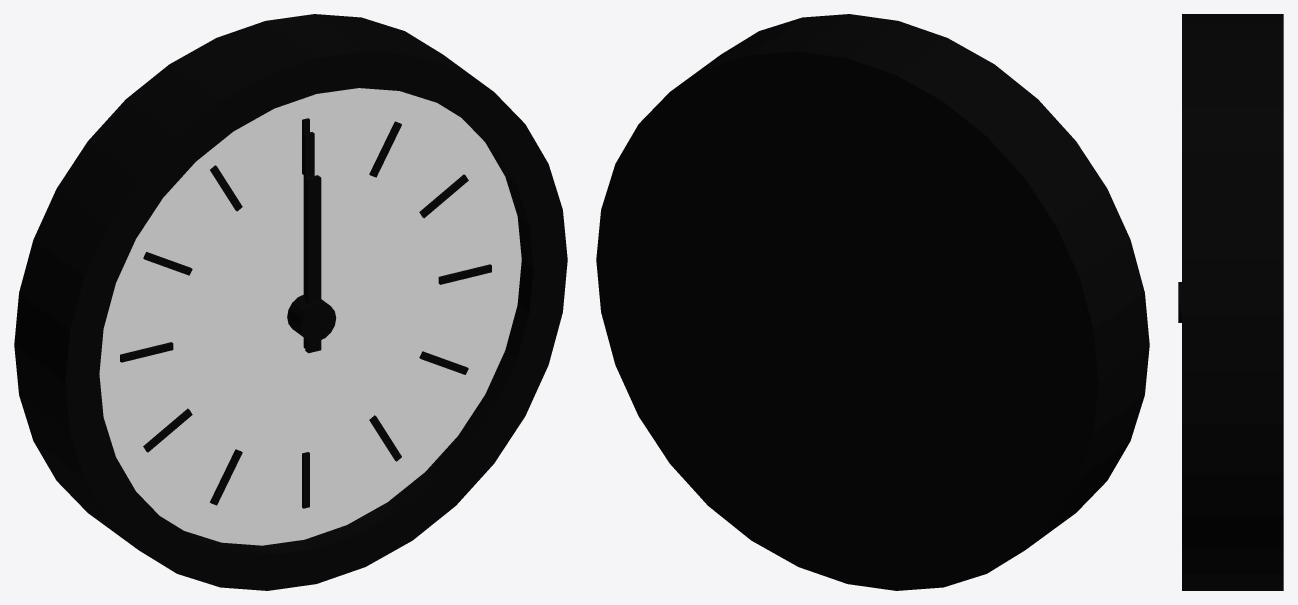
The picture shows the model from 3 angles, left to right: view 1: azimuth 30°, elevation 25°; view 2: azimuth 150°, elevation 25°; view 3: azimuth 270°, elevation 25°; orthographic projection.
Parts seen in each view (by area): view 1: Obj_Clock, Obj_Hand.001, Obj_Hand; view 2: Obj_Clock; view 3: Obj_Clock.
Boxes of the visible parts, x1,y1,x2,y2 form: Obj_Clock: [14, 14, 567, 590]; Obj_Hand.001: [305, 175, 321, 353]; Obj_Hand: [303, 132, 314, 348]; Obj_Clock: [596, 14, 1149, 590]; Obj_Clock: [1178, 14, 1283, 590].
Bounding box in the file's own units: 0.3186 × 0.3186 × 0.0581.
Materials: 1 (1 with a texture image).
